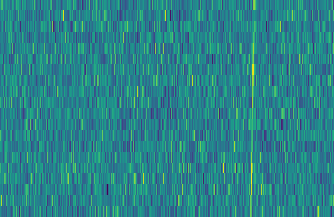signal: (247, 0, 259, 217)
